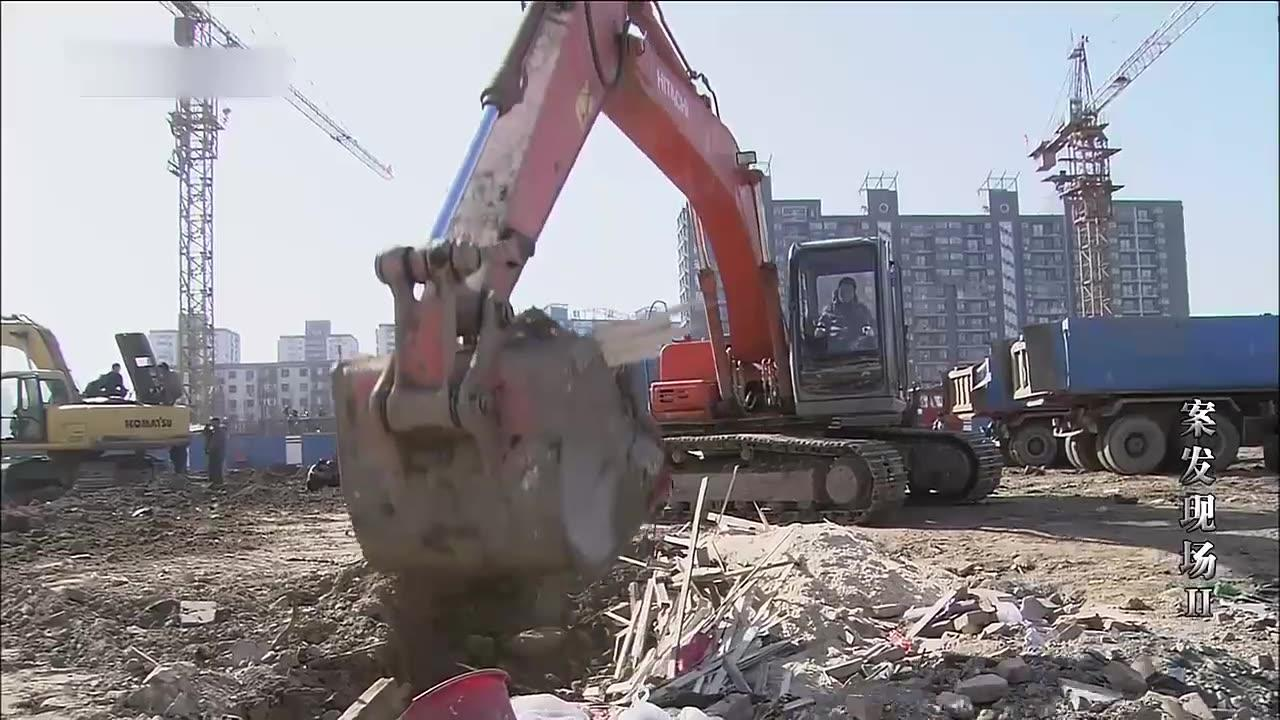excavator: (303, 7, 1025, 623)
